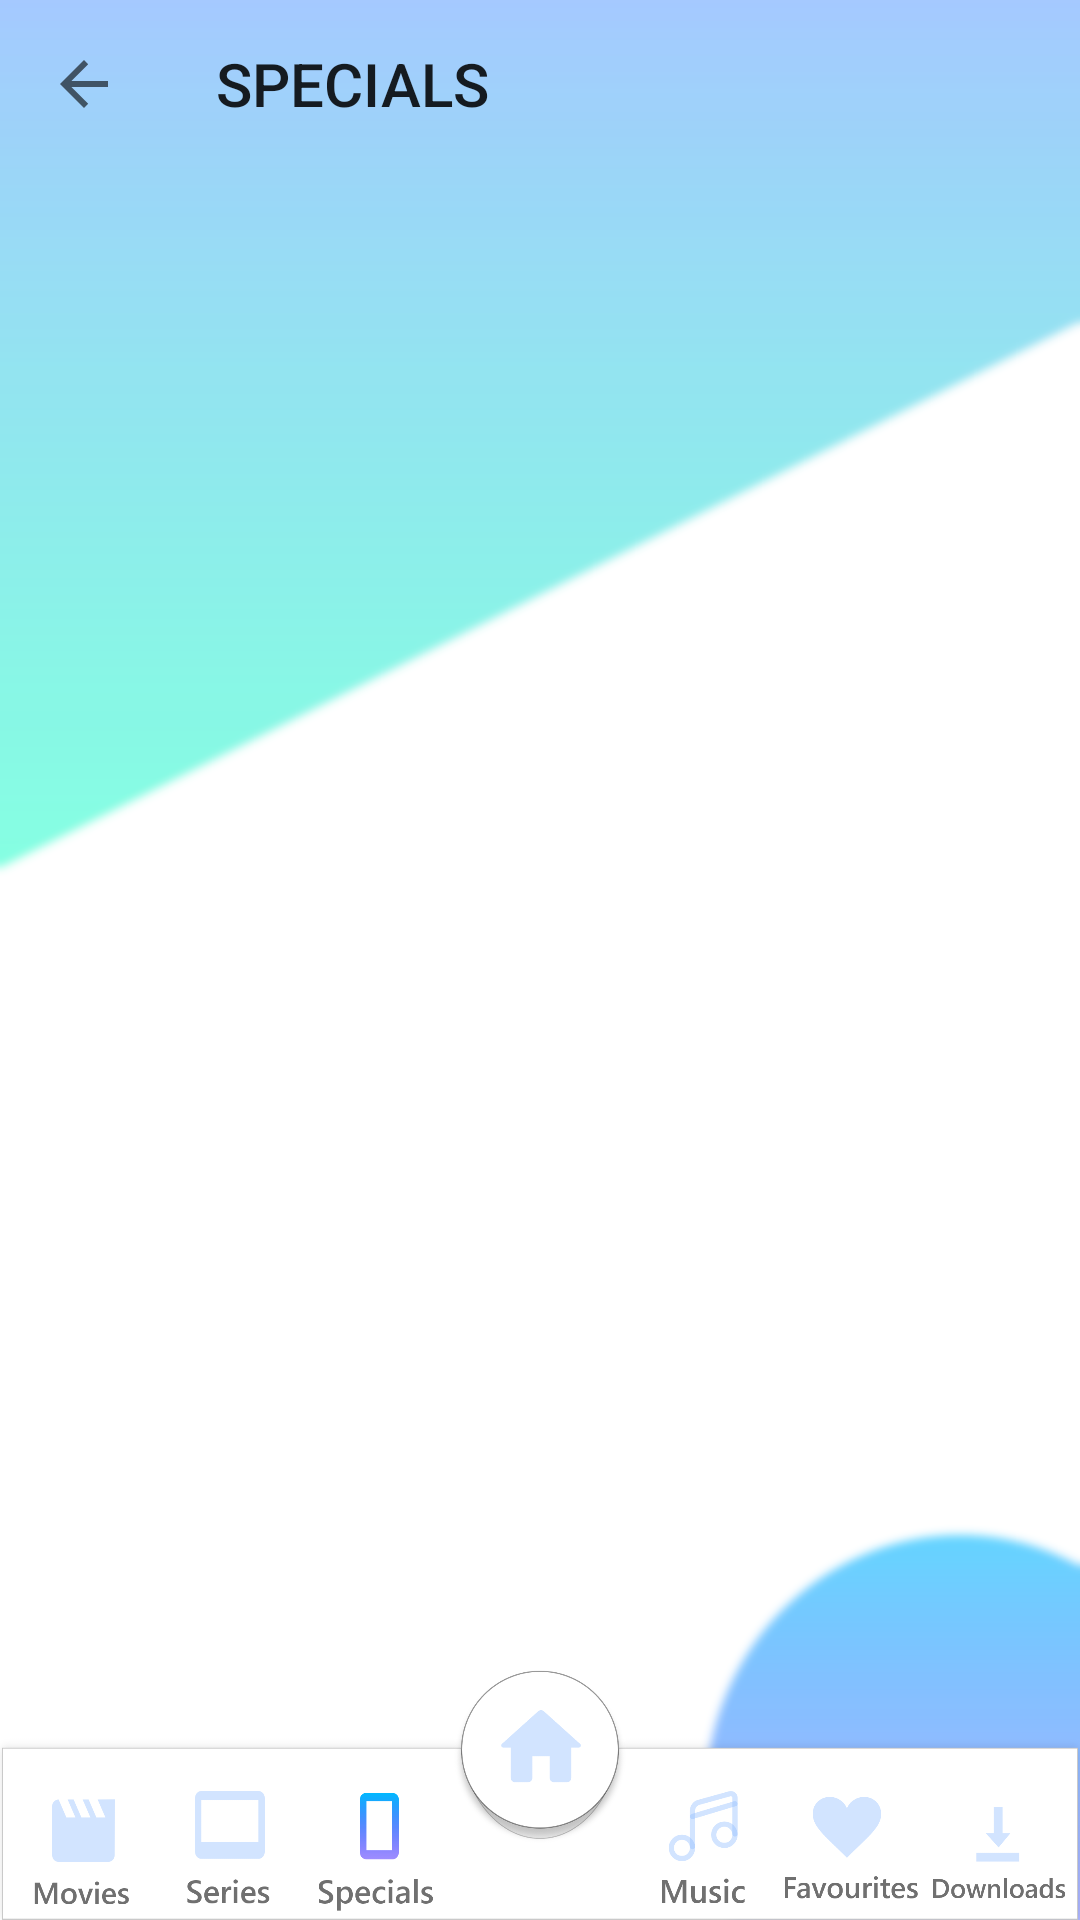

Where icons sit on this 1080 x 1920 app screen, as box(x1, y1, x2, y2):
home: box(501, 1710, 581, 1782)
